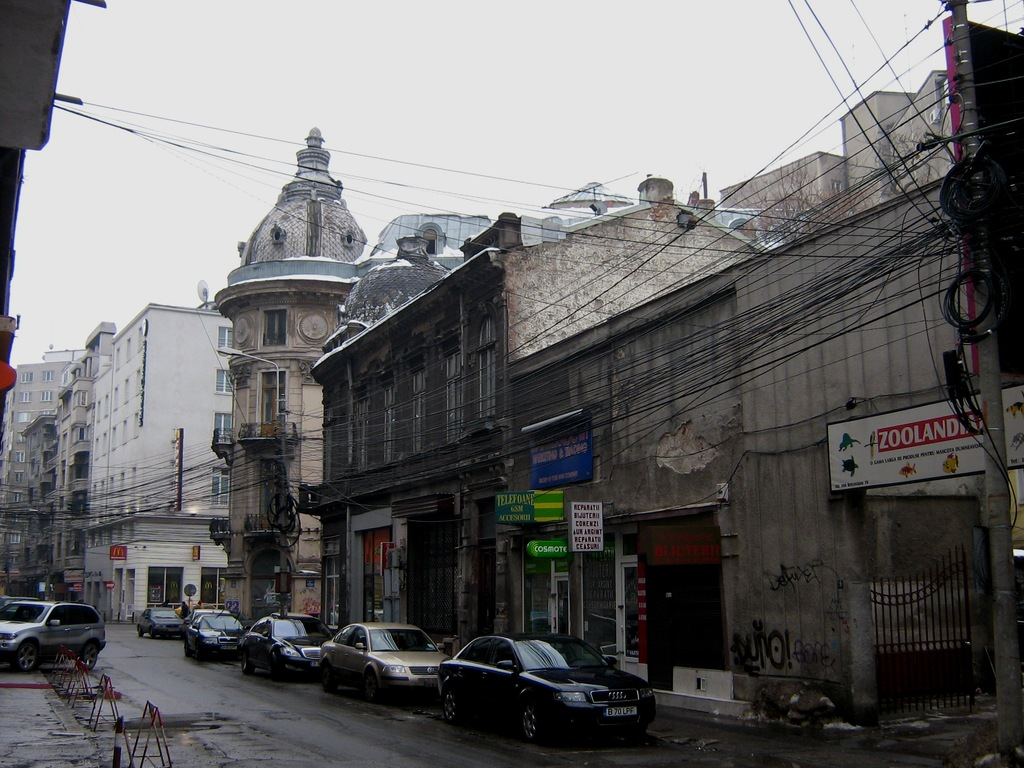Wheel: (518, 706, 539, 745), (12, 642, 38, 673), (440, 692, 457, 721), (78, 641, 95, 668), (318, 666, 335, 692), (365, 671, 380, 700), (243, 652, 253, 672), (566, 657, 584, 664), (195, 647, 204, 660), (272, 659, 277, 677), (185, 644, 190, 656), (137, 628, 143, 636), (150, 631, 154, 637)
